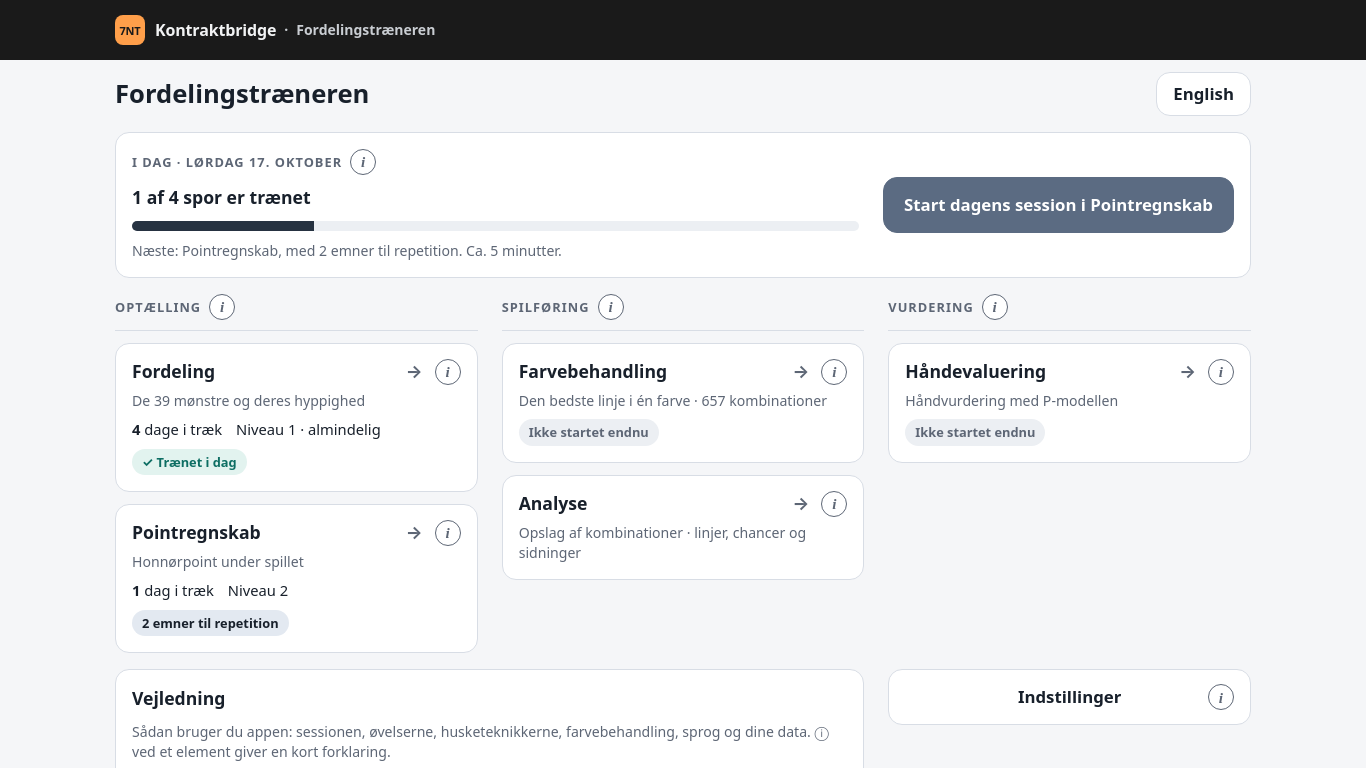
Test: Forsiden (SPEC-forside-spor.md) › I dag tæller de trænede spor, viser det næste og starter dets session; kortene har streak, niveau og ét mærke
Check: the text "I dag · lørdag 17. oktober" is shown, box [132, 153, 342, 171]
Check: the heading "1 af 4 spor er trænet" is shown, box [132, 185, 311, 209]
Click the button "Start dagens session i Pointregnskab".
click(1058, 205)  # box [883, 177, 1234, 233]
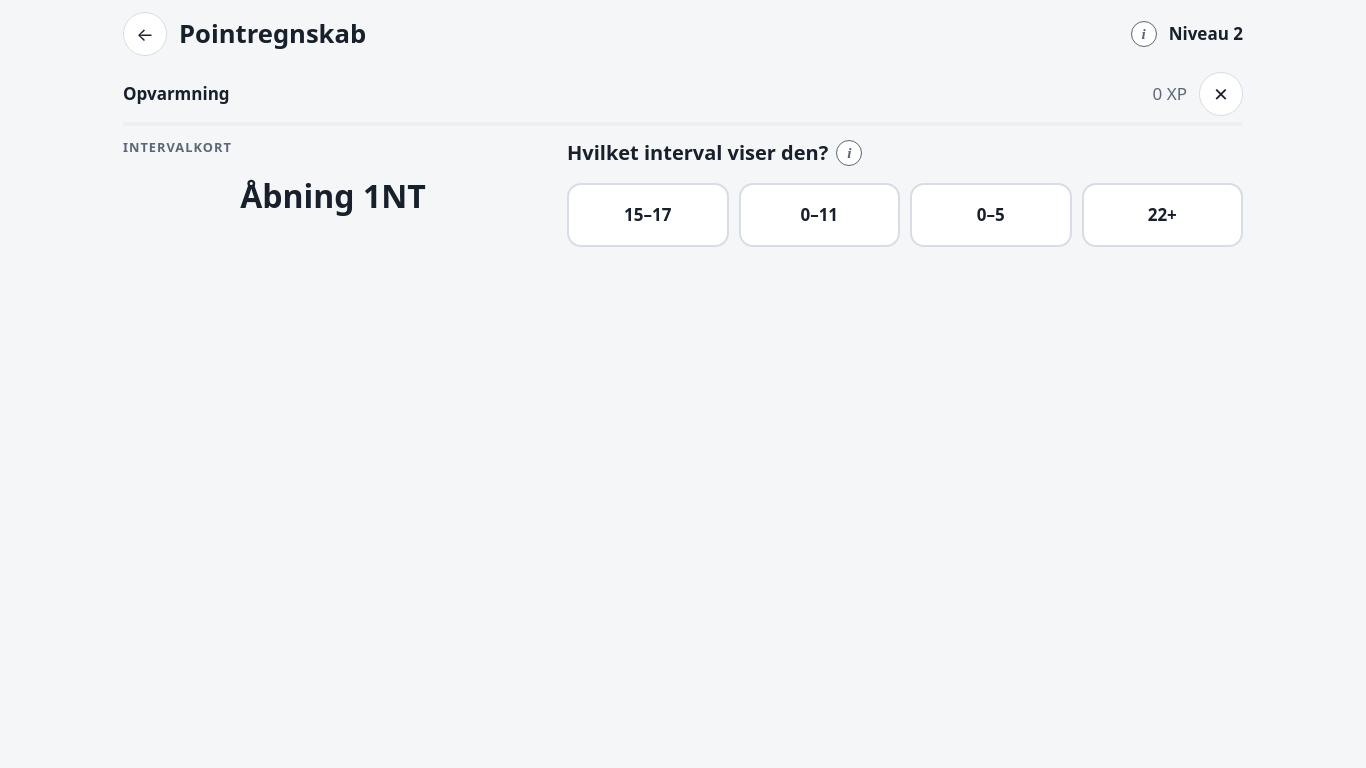
Check: the button named "Afbryd sessionen" is shown, box [1199, 72, 1243, 116]
Check: the heading "Pointregnskab" is shown, box [179, 16, 366, 51]
Check: the header with class "topbar" is gone
